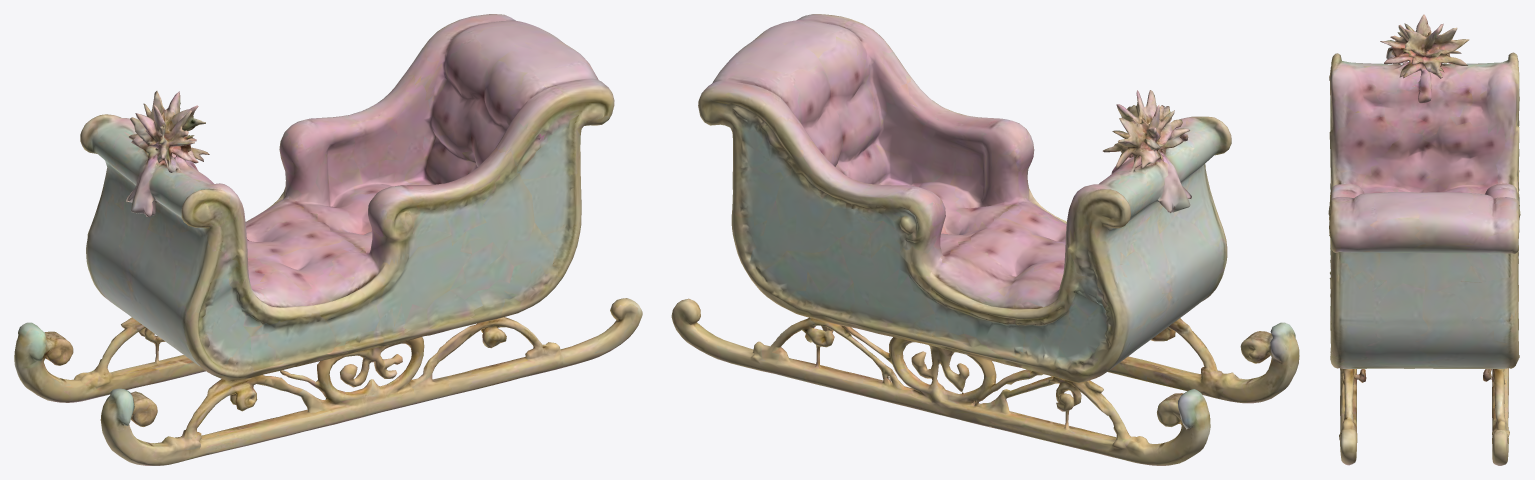
3 renders of one model, left to right at view 1: azimuth 30°, elevation 25°; view 2: azimuth 150°, elevation 25°; view 3: azimuth 270°, elevation 25°, orthographic. The views are drawn at different scales.
Parts seen in each view (by area): view 1: Mesh_0; view 2: Mesh_0; view 3: Mesh_0.
Boxes of the visible parts, x1,y1,x2,y2 form: Mesh_0: [14, 14, 642, 465]; Mesh_0: [671, 14, 1299, 465]; Mesh_0: [1328, 14, 1520, 465].
Bounding box in the file's own units: 1.99 × 1.13 × 0.7061.
Materials: 1 (1 with a texture image).
